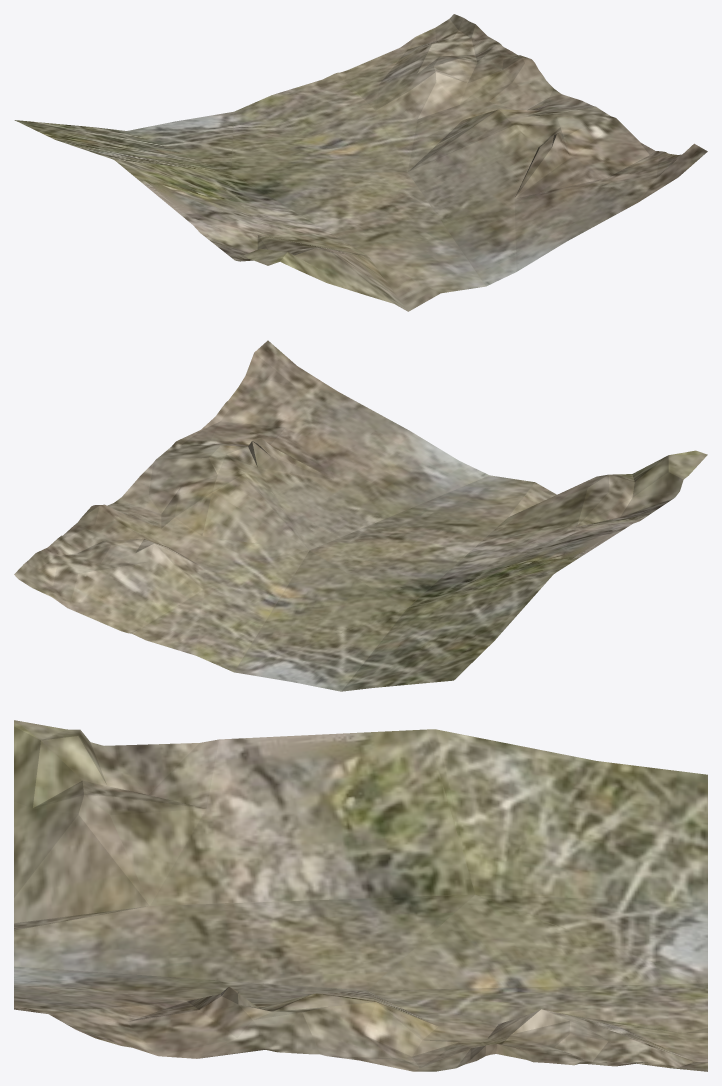
3 renders of one model, top to bottom at view 1: azimuth 30°, elevation 25°; view 2: azimuth 150°, elevation 25°; view 3: azimuth 270°, elevation 25°, orthographic. The views are drawn at different scales.
Bounding box in the file's own units: 5.9 × 1.19 × 5.9.
Materials: 3 (3 with a texture image).
